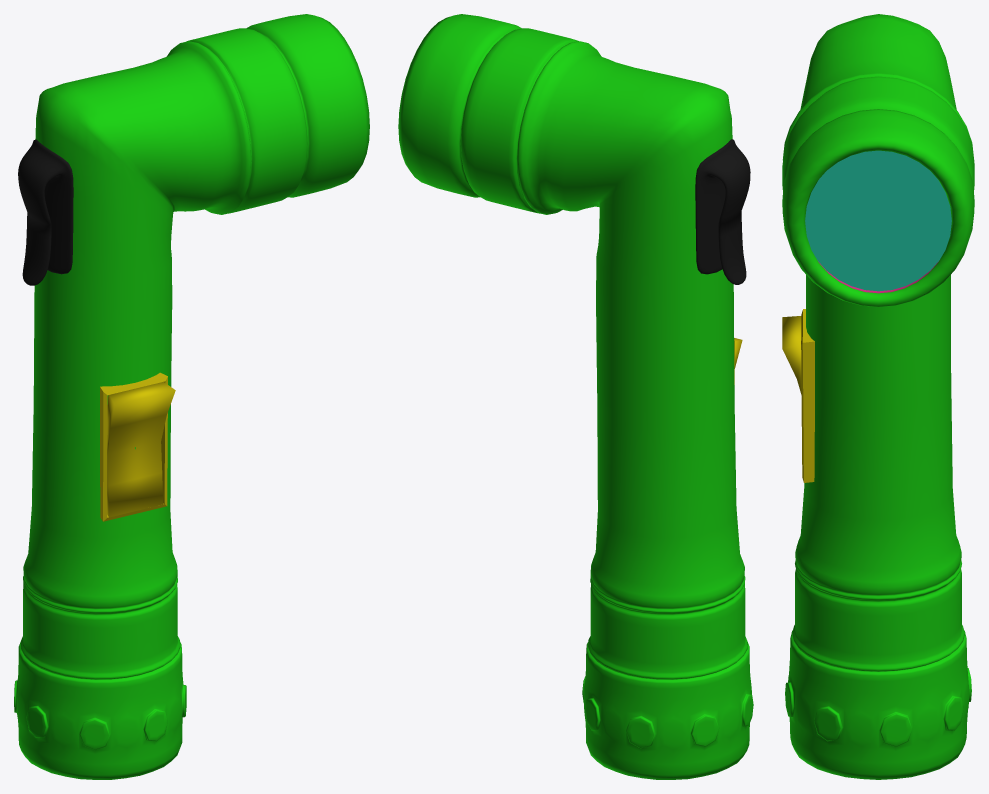
The picture shows the model from 3 angles, left to right: view 1: azimuth 30°, elevation 25°; view 2: azimuth 150°, elevation 25°; view 3: azimuth 270°, elevation 25°; orthographic projection. The views are drawn at different scales.
Parts seen in each view (by area): view 1: Cylinder (×3); view 2: Cylinder (×2); view 3: Cylinder (×3).
Part boxes in pixels (box(x1,y1,x2,y2)): Cylinder (×3): box(14, 14, 369, 779); Cylinder (×2): box(398, 14, 753, 779); Cylinder (×3): box(782, 14, 974, 779).
Size of the model in its own units: 185 by 392 by 93.72.
